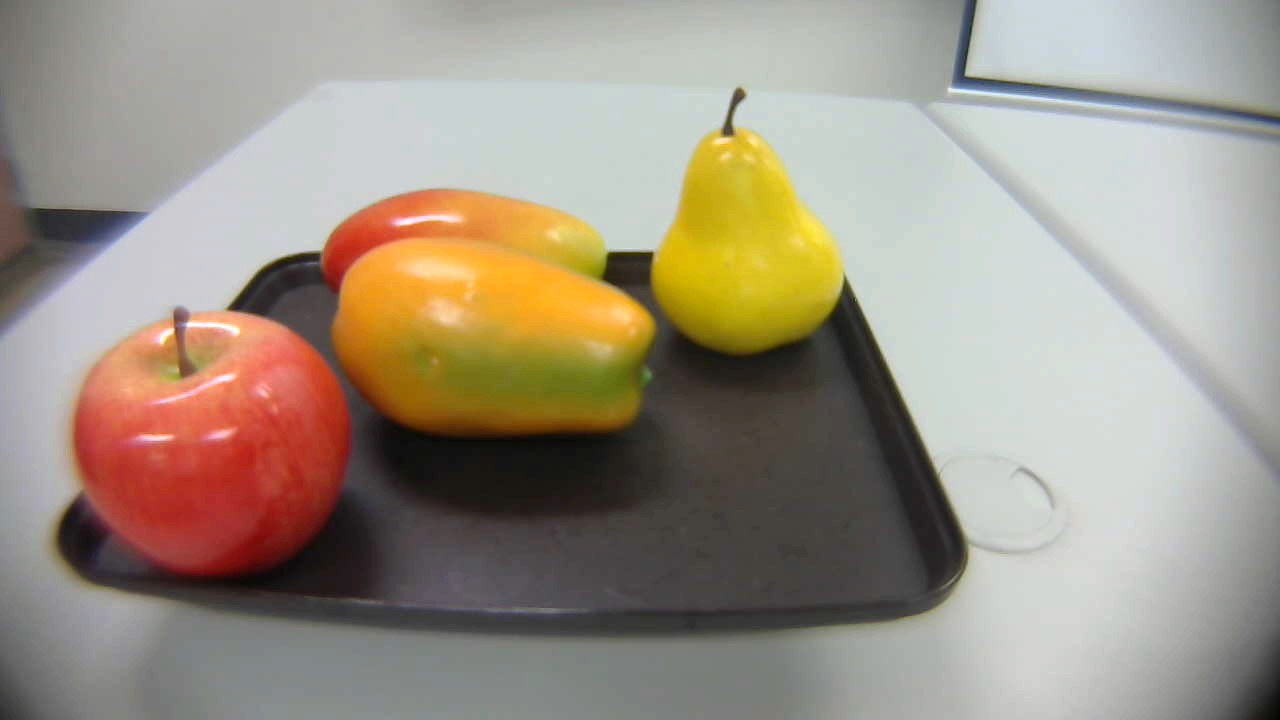papya: (332, 231, 663, 453)
red apple: (73, 309, 352, 578)
red mango: (303, 174, 617, 308)
yellow pear: (647, 84, 857, 364)
